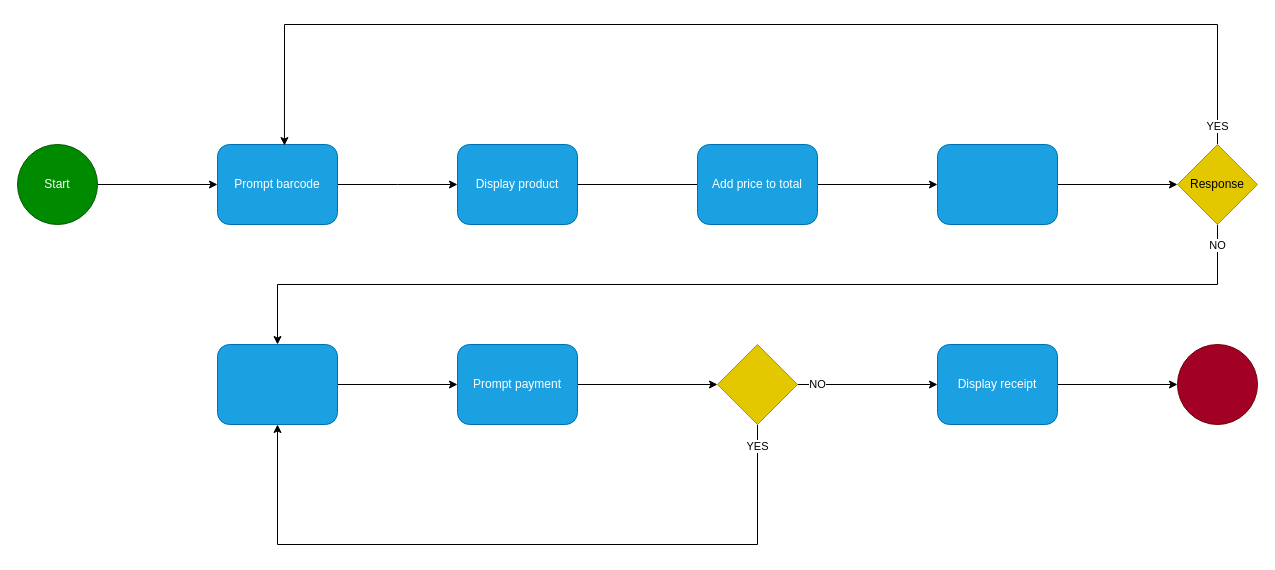
The diagram is 1275 pixels wide and 570 high, and some of its shapes have lost their labels. The box of each missing label's shape, as (x1, y1, x2, y2) in pixels:
Display amount due: (216, 344, 338, 424)
End: (1176, 344, 1258, 424)
Payment pending?: (716, 344, 798, 424)
Prompt scan another item: (936, 144, 1058, 224)
